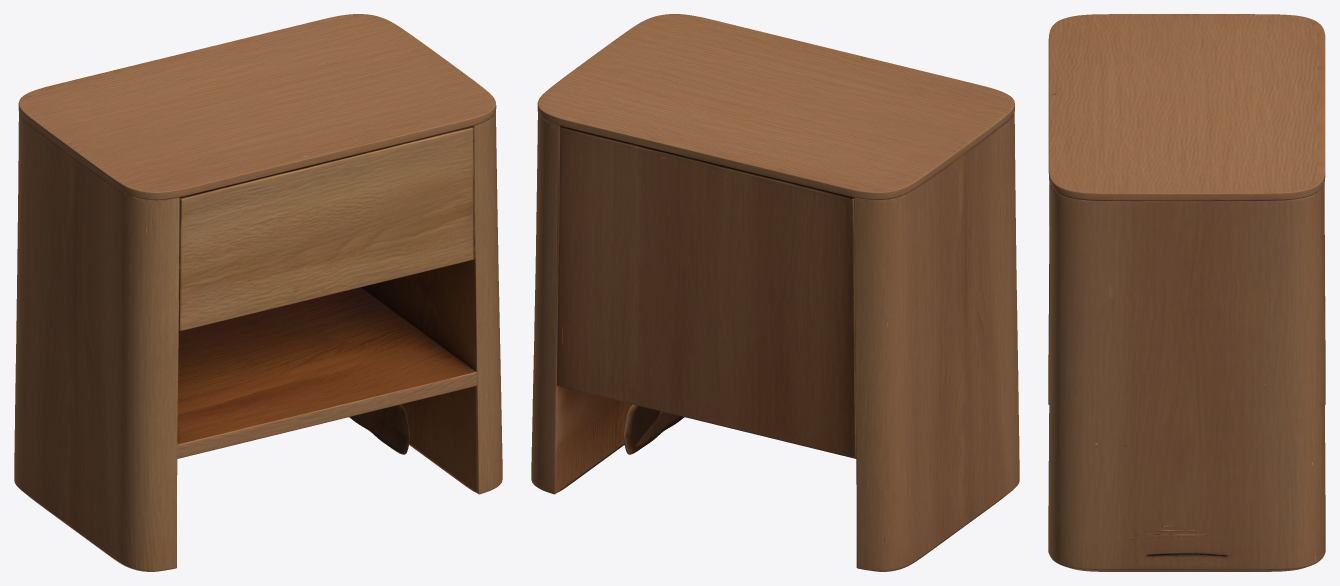
Rendered from nightstand.glb.
3 views of the same model, side by side, from view 1: azimuth 30°, elevation 25°; view 2: azimuth 150°, elevation 25°; view 3: azimuth 270°, elevation 25° (orthographic).
Visible parts, largest first — view 1: node_0; view 2: node_0; view 3: node_0.
Boxes of the visible parts, <box> form: node_0: <box>14,14,502,571</box>; node_0: <box>531,14,1019,571</box>; node_0: <box>1048,14,1325,571</box>.
Size of the model in its own units: 0.8207 by 0.7911 by 0.5257.
1 material, 1 textured.
